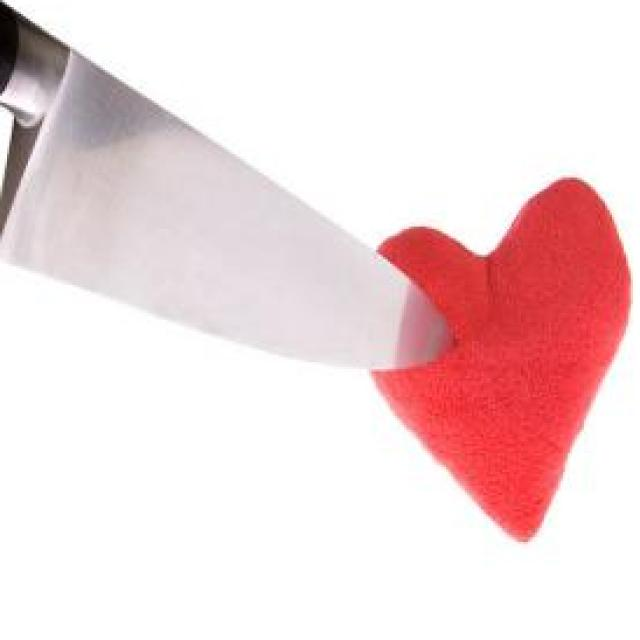knife: (0, 0, 458, 388)
